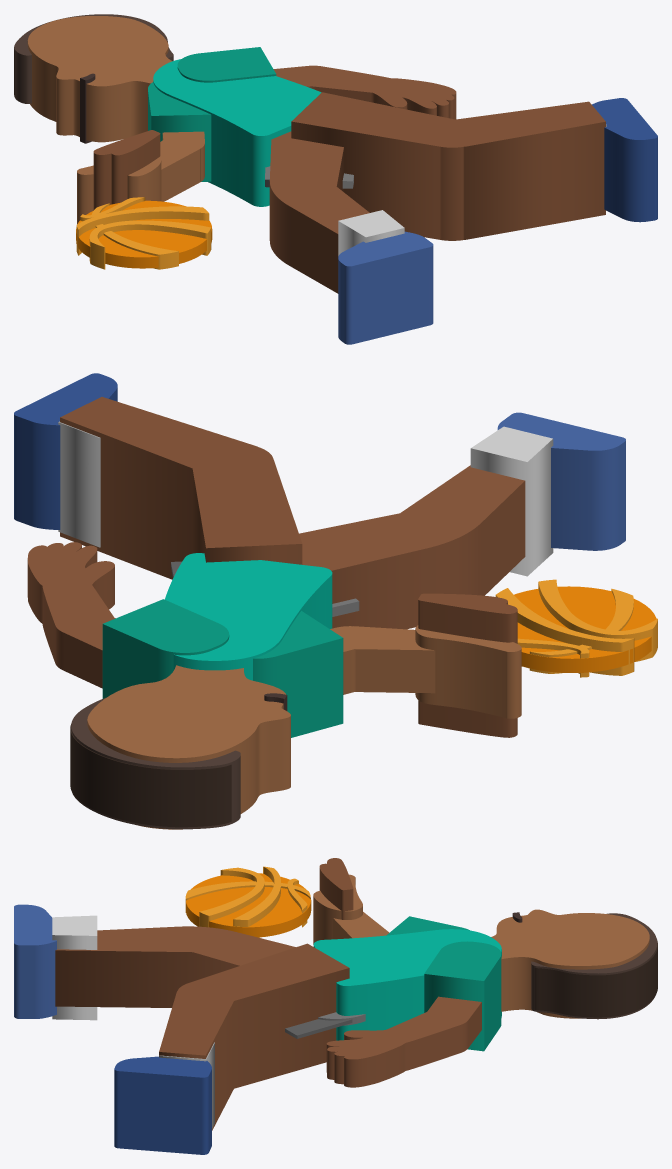
Rendered from emoji_u26f9_1f3fe_200d_2642.glb.
3 renders of one model, top to bottom at view 1: azimuth 30°, elevation 25°; view 2: azimuth 150°, elevation 25°; view 3: azimuth 270°, elevation 25°, orthographic. The views are drawn at different scales.
Visible parts, largest first — view 1: emoji_u26f9_1f3fe_200d_2642; view 2: emoji_u26f9_1f3fe_200d_2642; view 3: emoji_u26f9_1f3fe_200d_2642.
Part boxes in pixels (box(x1,y1,x2,y2)): emoji_u26f9_1f3fe_200d_2642: box(14, 14, 657, 344); emoji_u26f9_1f3fe_200d_2642: box(14, 373, 657, 829); emoji_u26f9_1f3fe_200d_2642: box(14, 858, 657, 1154).
Size of the model in its own units: 0.0291 by 0.0052 by 0.0332.
